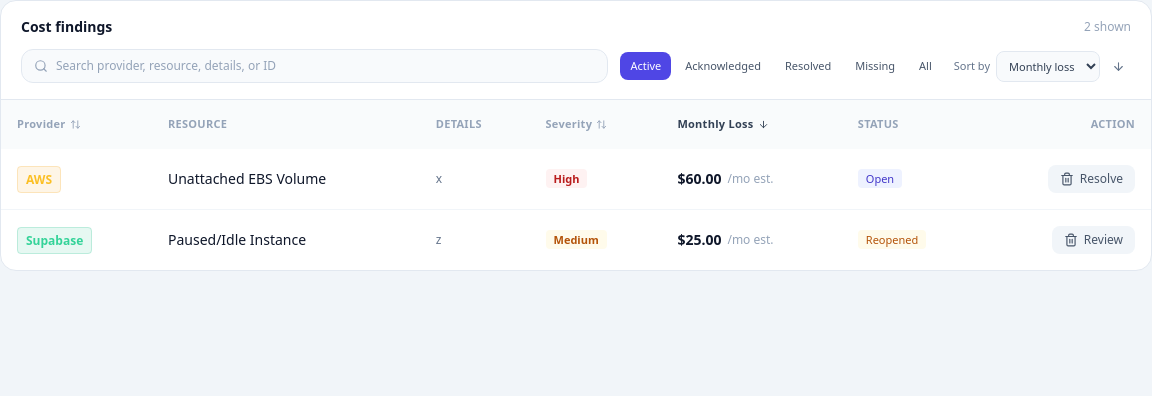
WasteTable › the "All" status filter reveals every status
Click the button "All" at (925, 66), box [909,52,942,80]
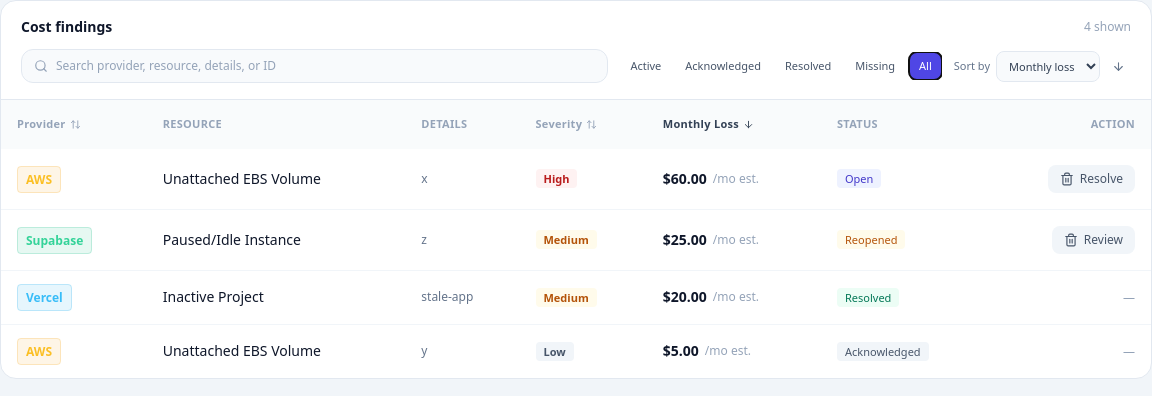
Expected: the text "y" is shown, [405,324,520,378]
Expected: the text "stale-app" is shown, [405,270,520,324]
